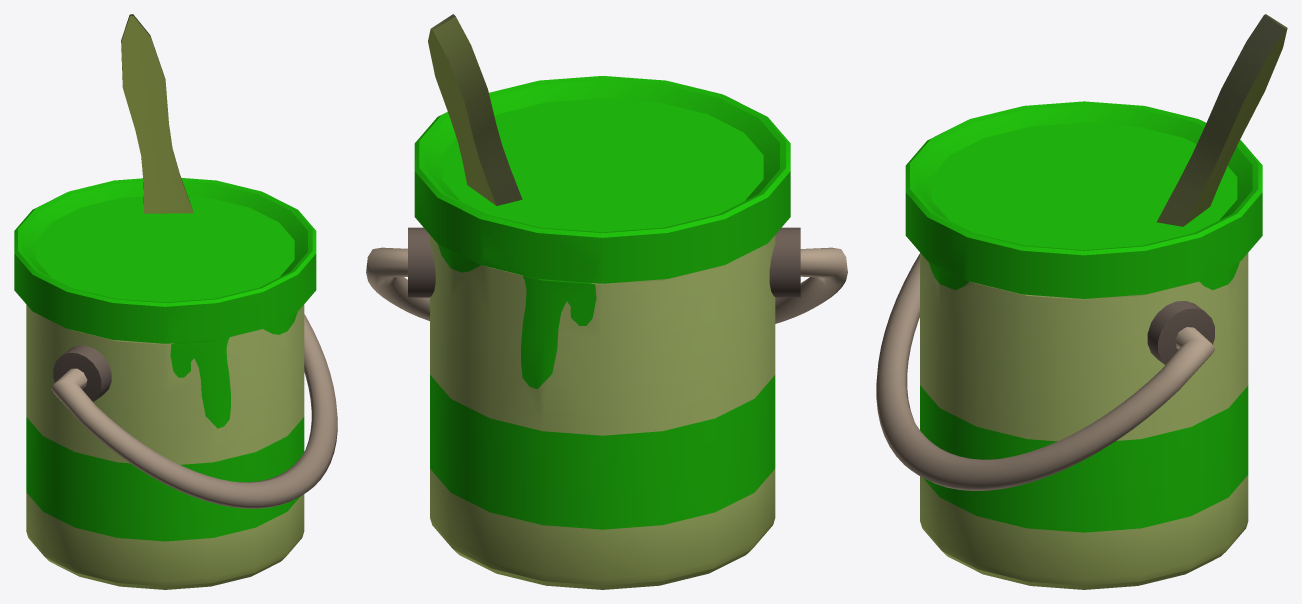
Rendered from Green_Bucket.FBX.
The picture shows the model from 3 angles, left to right: view 1: azimuth 30°, elevation 25°; view 2: azimuth 150°, elevation 25°; view 3: azimuth 270°, elevation 25°; orthographic projection. The views are drawn at different scales.
Parts seen in each view (by area): view 1: Green_Bucket; view 2: Green_Bucket; view 3: Green_Bucket.
Boxes of the visible parts, x1,y1,x2,y2 form: Green_Bucket: [14, 14, 337, 589]; Green_Bucket: [366, 14, 847, 589]; Green_Bucket: [876, 14, 1287, 589].
Size of the model in its own units: 370 by 510 by 354.
